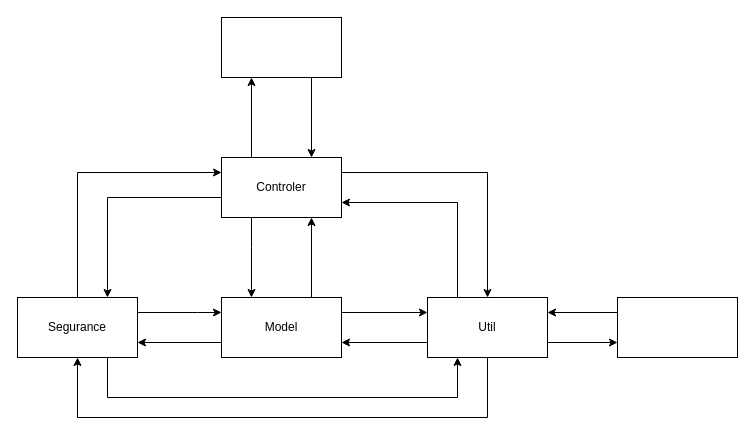
Image size: 755x443. Some labels were removed from this diagram. The box of each missing label's shape, as (x1, y1, x2, y2) in pixels:
APIs: (616, 296, 738, 358)
Views: (220, 16, 342, 78)
